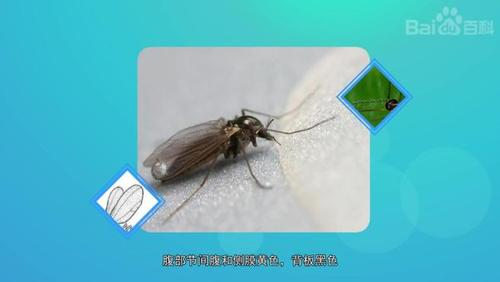Cecidomyiidae: (150, 85, 330, 218)
